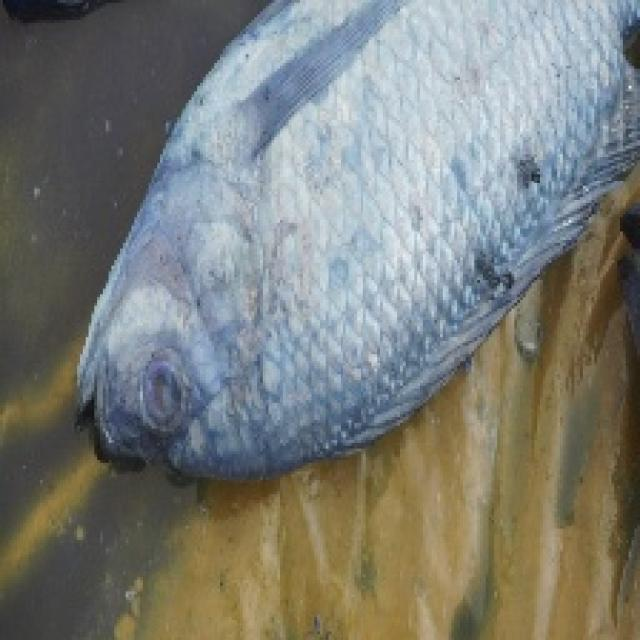Non-Fresh: (68, 6, 629, 468)
